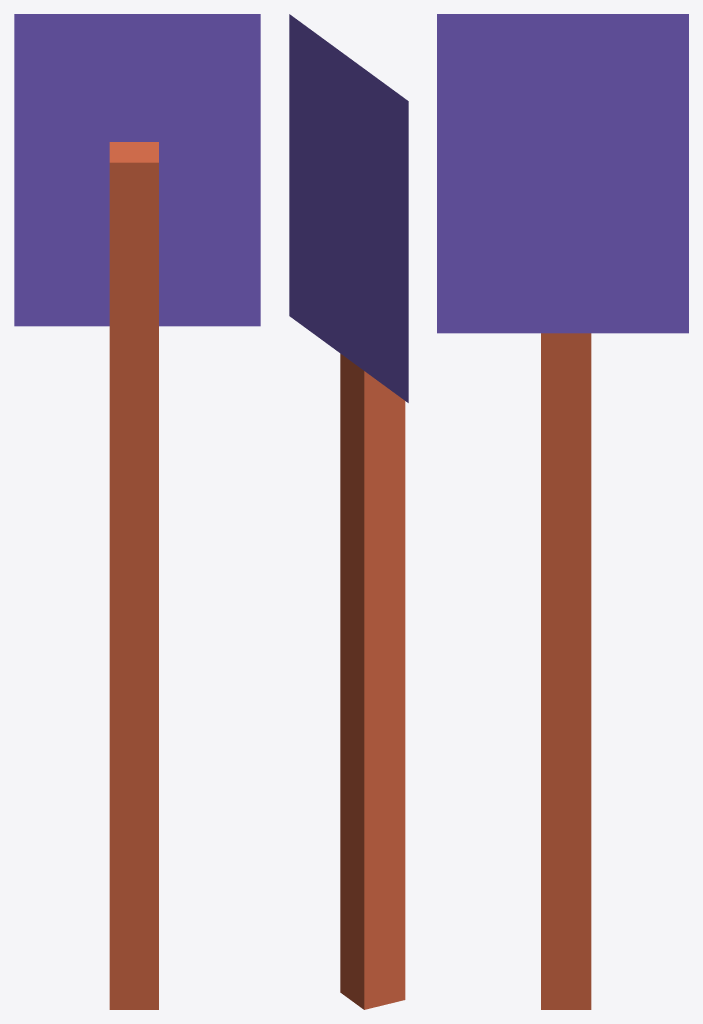
The model's file is placa_ponto.glb.
3 renders of one model, left to right at view 1: azimuth 90°, elevation 25°; view 2: azimuth 210°, elevation 25°; view 3: azimuth 270°, elevation 25°, orthographic. The views are drawn at different scales.
Visible parts, largest first — view 1: Cube; view 2: Cube; view 3: Cube.
Part boxes in pixels (x1,y1,x2,y2): Cube: (14, 14, 260, 1009); Cube: (289, 14, 408, 1009); Cube: (437, 14, 688, 1009).
Size of the model in its own units: 0.1043 by 2.18 by 0.5.
